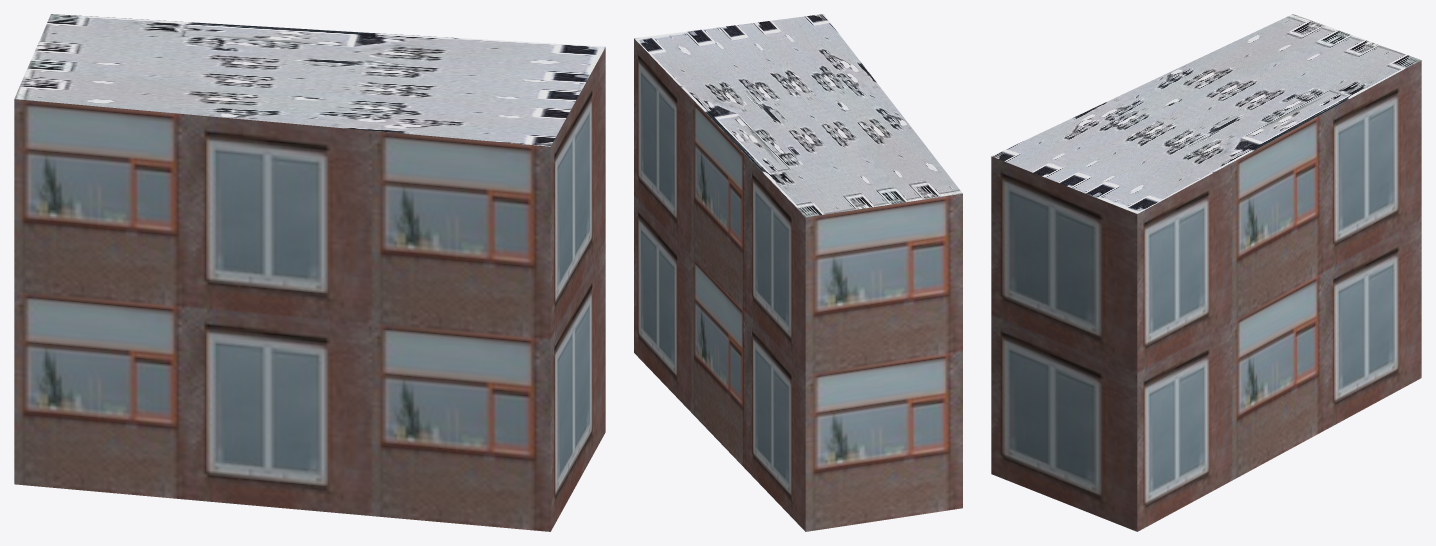
Rendered from ResTex__2282.fbx.
3 renders of one model, left to right at view 1: azimuth 30°, elevation 25°; view 2: azimuth 150°, elevation 25°; view 3: azimuth 270°, elevation 25°, orthographic. The views are drawn at different scales.
Visible parts, largest first — view 1: CityEngineMaterial_19_m, CityEngineMaterial_15_m; view 2: CityEngineMaterial_19_m, CityEngineMaterial_15_m; view 3: CityEngineMaterial_19_m, CityEngineMaterial_15_m.
Boxes of the visible parts, x1=… form: CityEngineMaterial_19_m: x1=14, y1=47, x2=605, y2=531; CityEngineMaterial_15_m: x1=14, y1=14, x2=605, y2=146; CityEngineMaterial_19_m: x1=634, y1=38, x2=962, y2=531; CityEngineMaterial_15_m: x1=634, y1=14, x2=962, y2=217; CityEngineMaterial_19_m: x1=991, y1=60, x2=1421, y2=531; CityEngineMaterial_15_m: x1=991, y1=14, x2=1421, y2=213.
Bounding box in the file's own units: 8.1 × 6 × 7.36.
2 materials, 2 textured.
